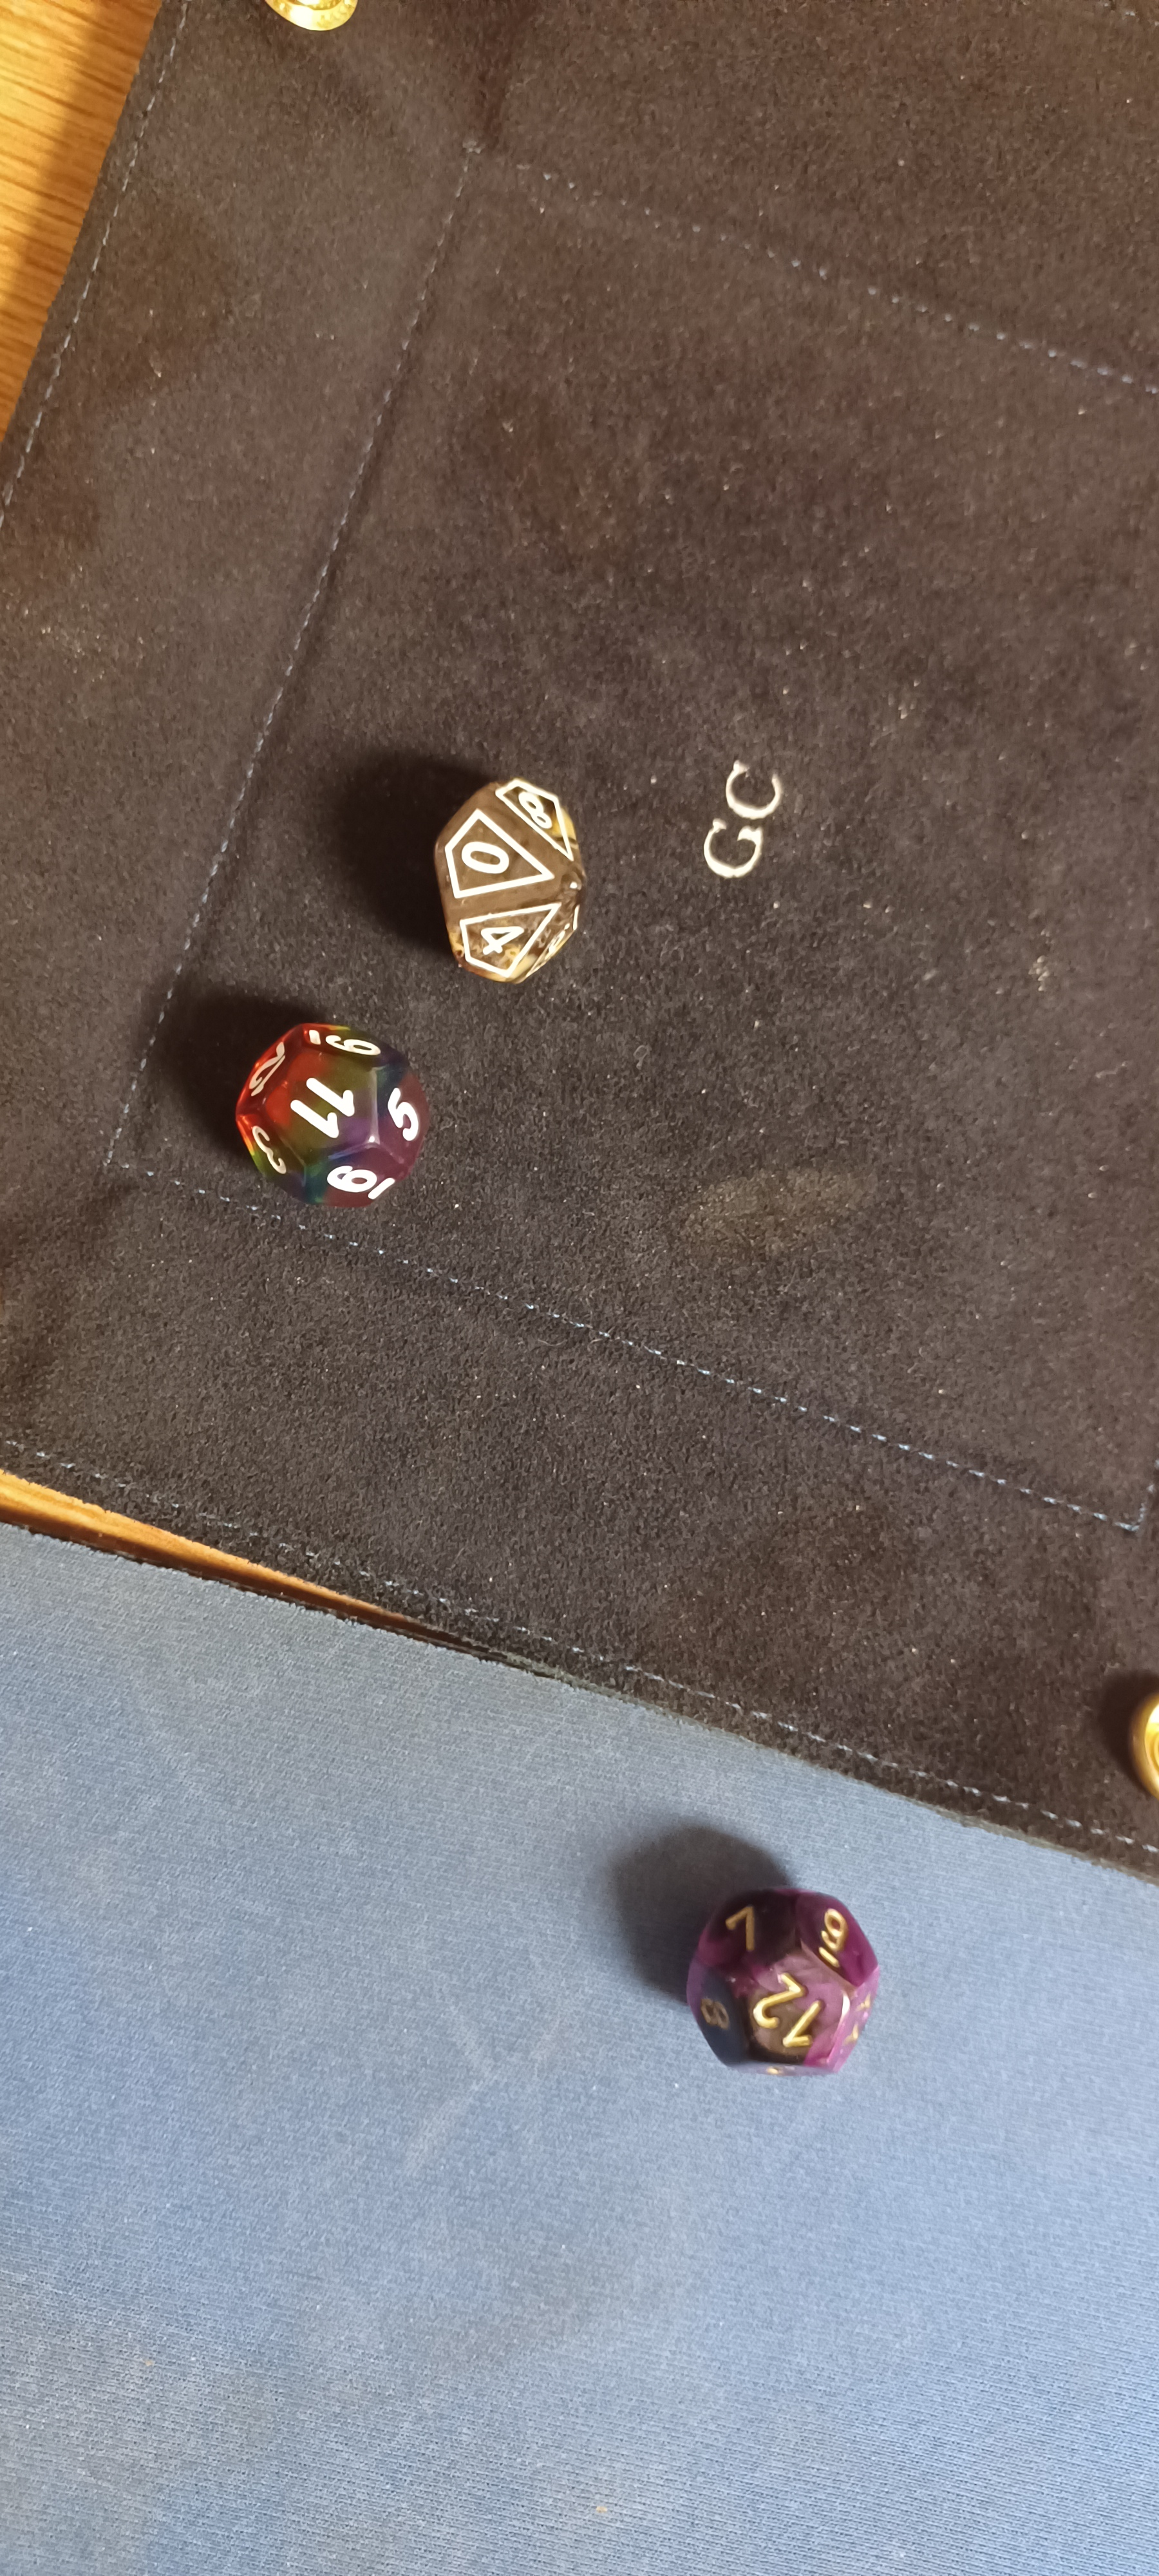eleven: (212, 982, 455, 1245)
twelve: (657, 1856, 928, 2114)
zero: (391, 748, 653, 1019)
